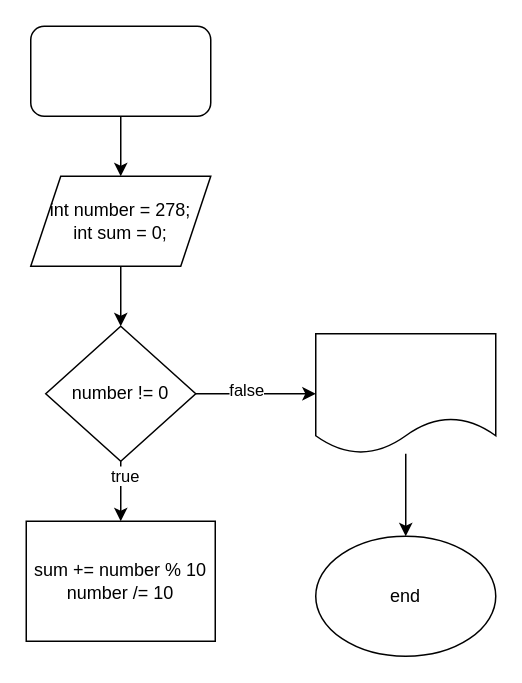
Image size: 522x683. Some labels were removed from this diagram. The shapes that lost their labels are listed below. From the top down, each one's centre as x and y in pixels, then its label:
[120,70]: start
[405,393]: print sum
